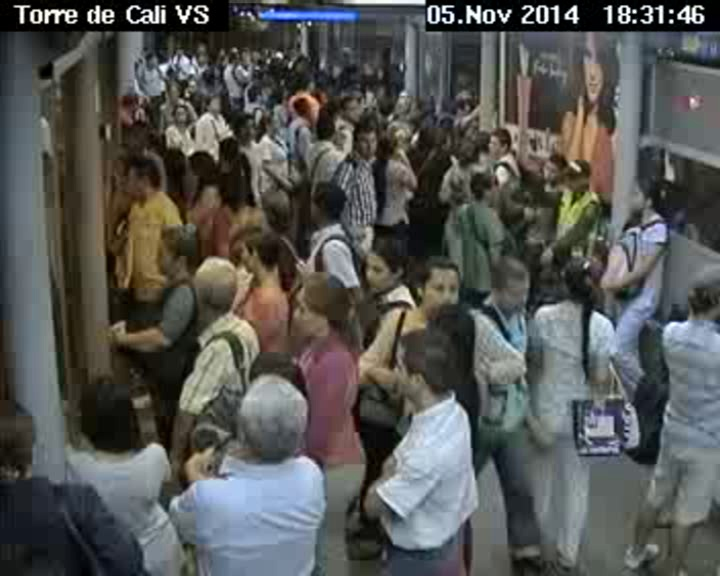person: (386, 315, 459, 408), (225, 377, 315, 450), (71, 372, 136, 449), (1, 400, 54, 486), (408, 250, 465, 324), (289, 270, 348, 341), (484, 254, 537, 327), (146, 221, 202, 284), (679, 251, 720, 330), (233, 229, 289, 286), (557, 246, 607, 306), (304, 174, 352, 236), (363, 237, 410, 300), (191, 252, 238, 314), (174, 142, 224, 195), (626, 175, 675, 223), (121, 158, 165, 205), (466, 168, 503, 207), (562, 159, 596, 193), (538, 148, 568, 186), (350, 119, 379, 157), (371, 126, 403, 159), (230, 108, 260, 143), (488, 122, 512, 158), (313, 112, 339, 145), (258, 108, 284, 137), (172, 100, 194, 132), (420, 122, 441, 154), (201, 95, 224, 119), (292, 98, 312, 121), (247, 85, 267, 106), (298, 70, 316, 88), (164, 81, 179, 101), (142, 51, 157, 69)
